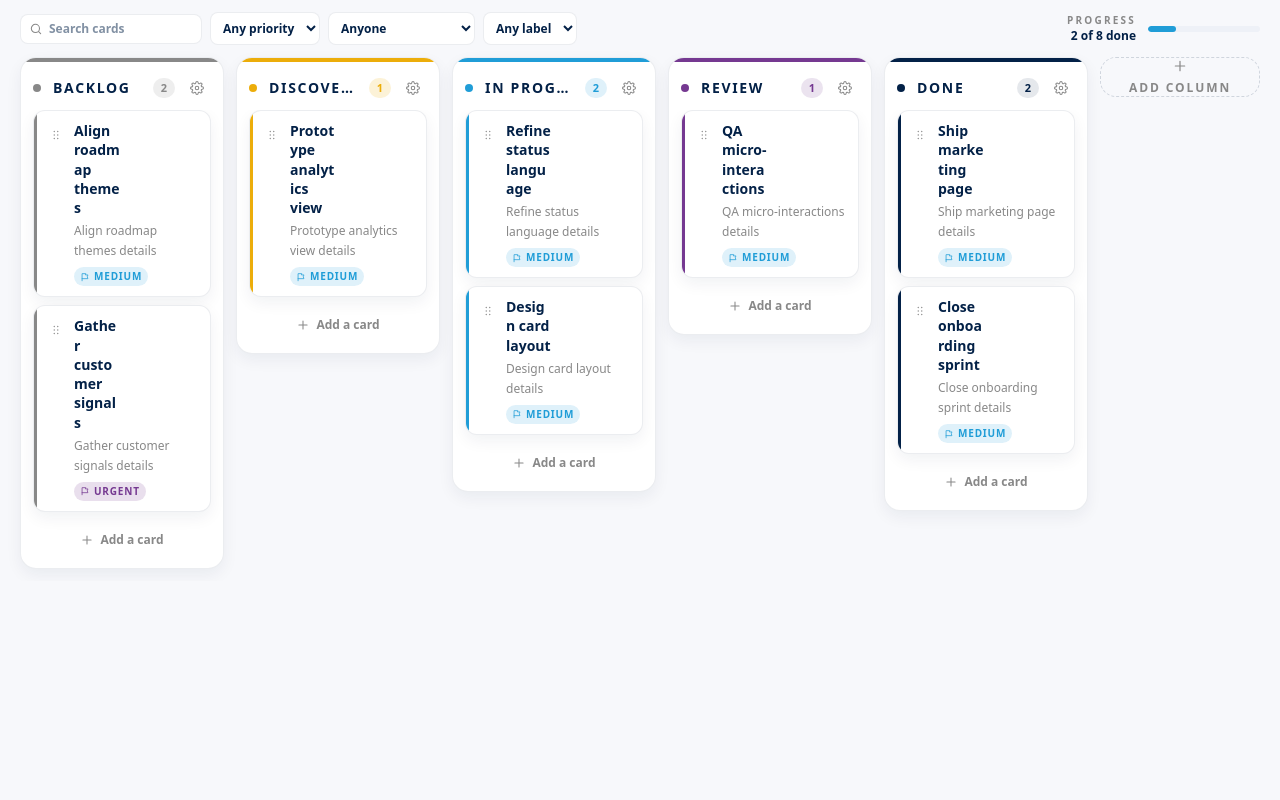
Test: KanbanBoard › filters cards by priority
The width and height of the screenshot is (1280, 800).
Select "Urgent" in the dropdown named "Filter by priority": (265, 28) top-left (210, 12), bottom-right (320, 45)
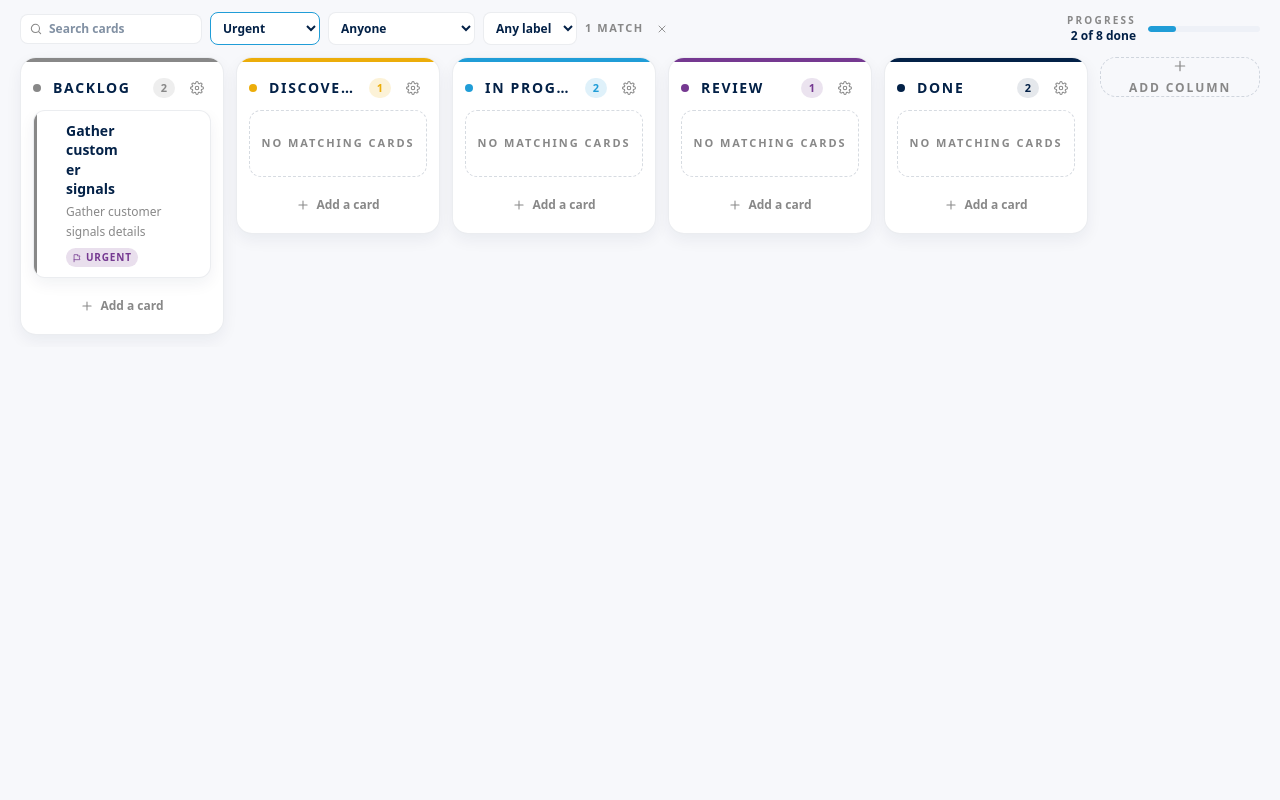
Check: the element with test id "card-card-2" is shown, box top-left (33, 110), bottom-right (211, 278)
Check: the element with test id "card-card-1" is gone
